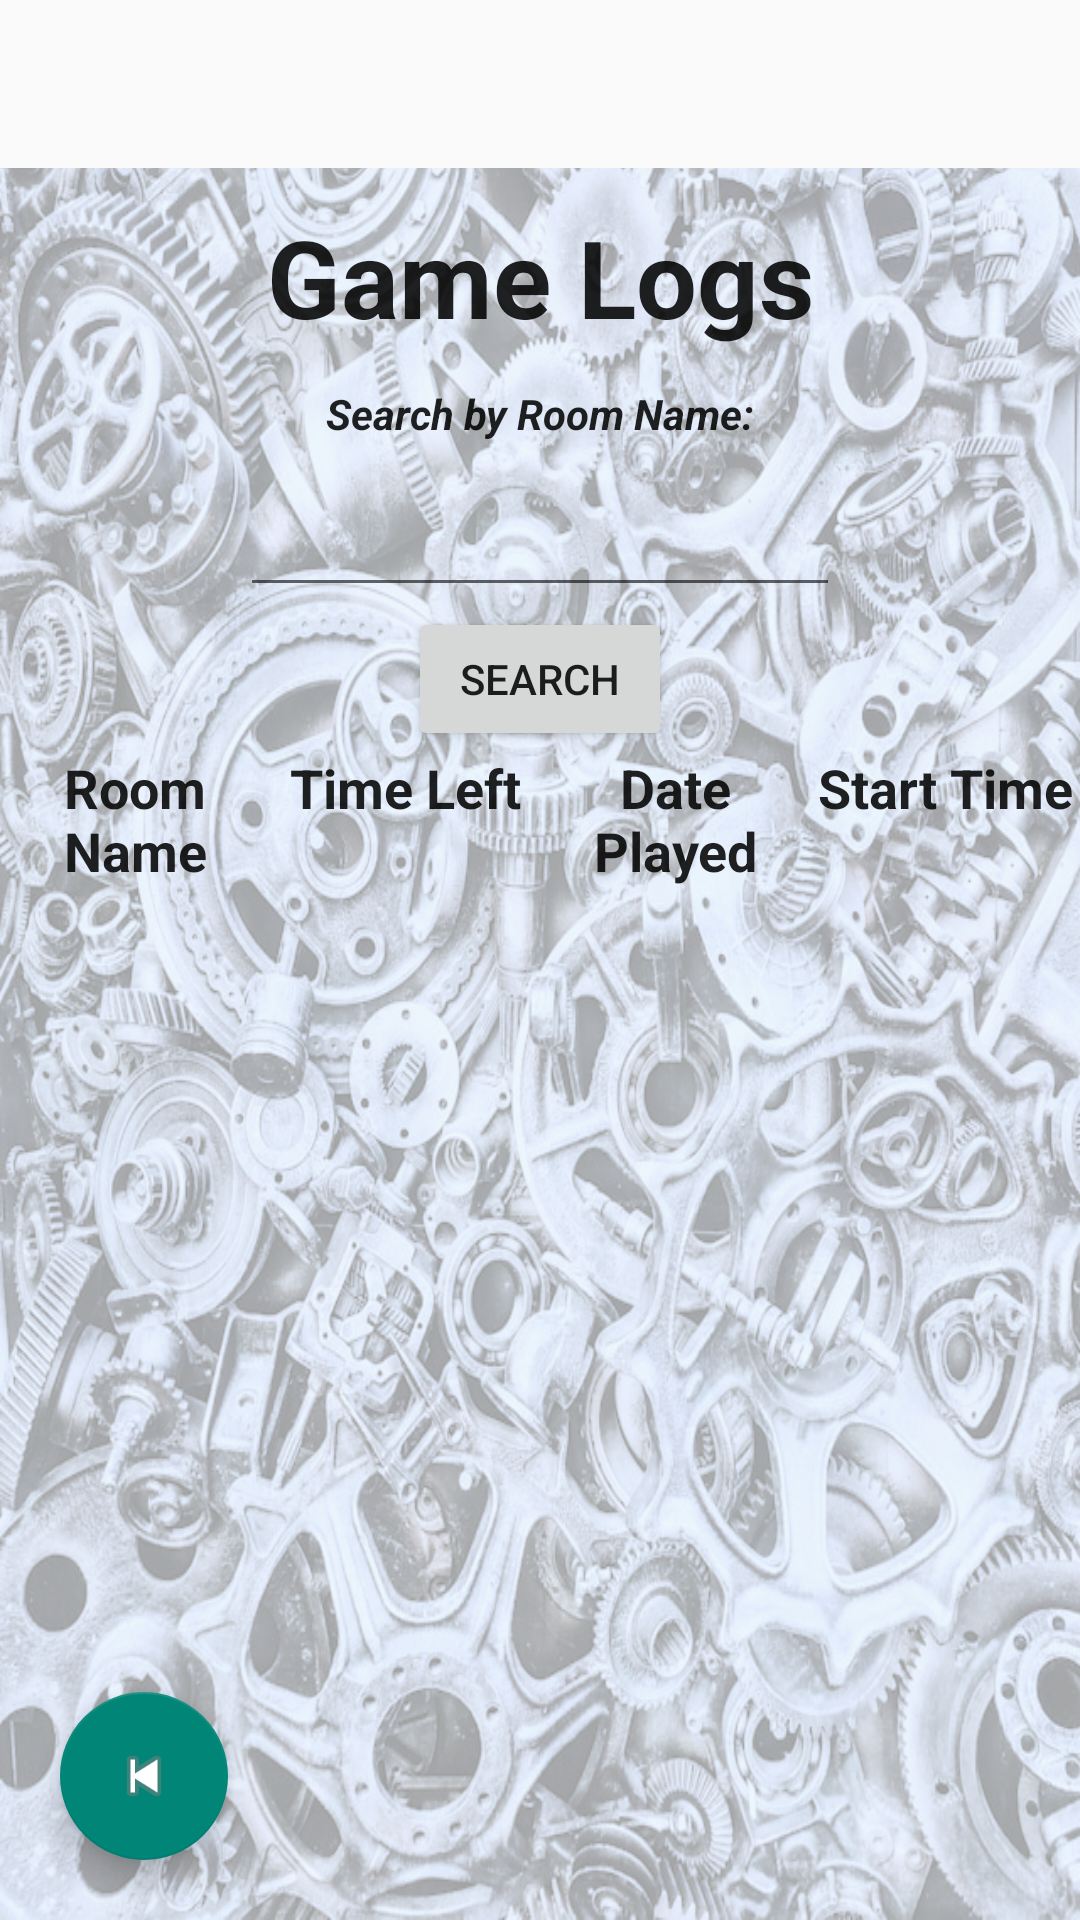

Screen size 1080w x 1920h. Icon name, then its center in pixels as point (x, y):
Back: point (144, 1776)
